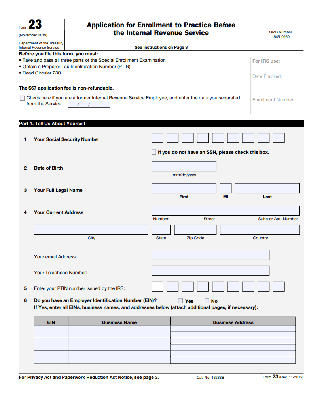checkbox: (150, 148, 157, 155), (18, 95, 25, 101), (177, 297, 184, 303), (204, 297, 211, 303)
textbox: (151, 204, 301, 216), (65, 336, 173, 352), (65, 323, 172, 339), (65, 348, 172, 364), (150, 248, 271, 261), (150, 264, 271, 277), (32, 222, 149, 235), (169, 323, 298, 334), (168, 328, 297, 339), (169, 335, 298, 345), (169, 342, 298, 352), (169, 348, 298, 358), (169, 354, 298, 364), (248, 73, 302, 96), (248, 94, 304, 115), (219, 223, 301, 235), (149, 181, 218, 194), (150, 160, 218, 173), (234, 182, 302, 194), (33, 349, 69, 364), (174, 223, 218, 235), (33, 324, 70, 338), (33, 337, 70, 351), (150, 223, 173, 235), (150, 280, 165, 293), (211, 279, 225, 292), (226, 279, 240, 292), (241, 132, 256, 144), (256, 132, 271, 144), (271, 132, 286, 144), (241, 280, 256, 292), (256, 280, 271, 292), (271, 280, 286, 292), (150, 131, 164, 143), (166, 131, 180, 143), (181, 131, 195, 143), (196, 132, 210, 144), (211, 131, 225, 143), (227, 131, 241, 143), (219, 182, 233, 194), (165, 280, 179, 292), (181, 280, 195, 292), (196, 280, 210, 292)
textline: (67, 99, 111, 109)
